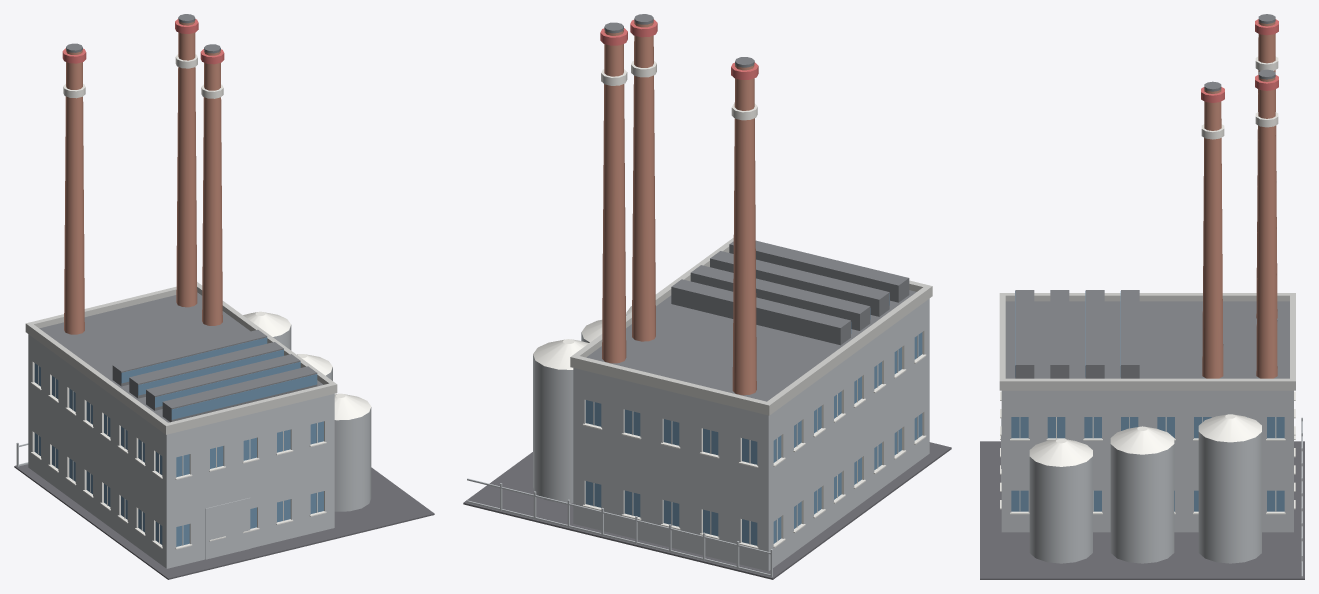
The picture shows the model from 3 angles, left to right: view 1: azimuth 30°, elevation 25°; view 2: azimuth 150°, elevation 25°; view 3: azimuth 270°, elevation 25°; orthographic projection. The views are drawn at different scales.
Parts seen in each view (by area): view 1: i_3_2_a; view 2: i_3_2_a; view 3: i_3_2_a.
Part boxes in pixels (x1,y1,x2,y2): i_3_2_a: (14,14,434,579); i_3_2_a: (463,14,951,579); i_3_2_a: (980,14,1304,579).
Size of the model in its own units: 24 by 36.6 by 24.
